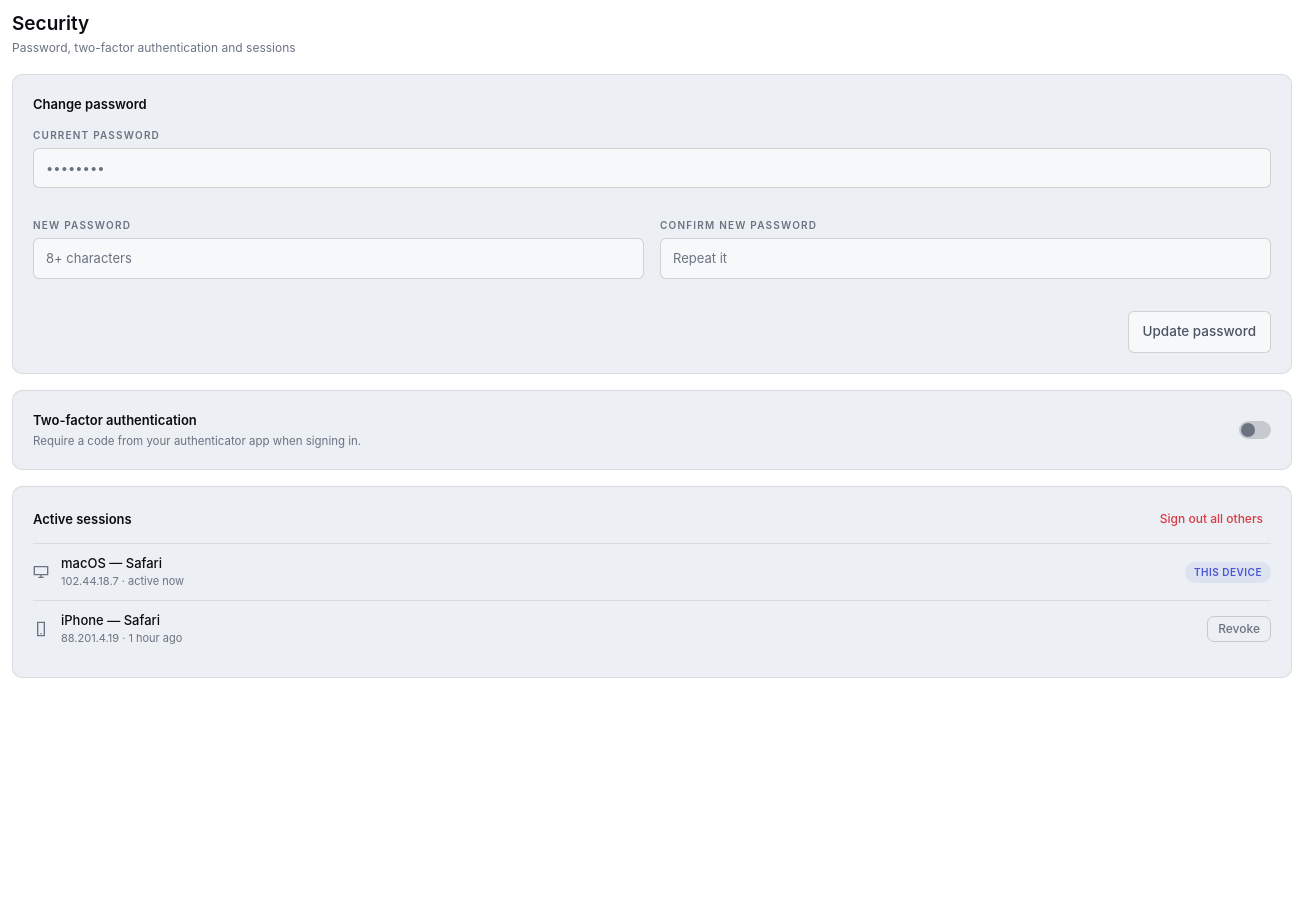
it: SettingsSecurityPage › signs out all others and says how many went
Click the button "Sign out all others". click: (1211, 519)
box: [1152,507,1271,531]
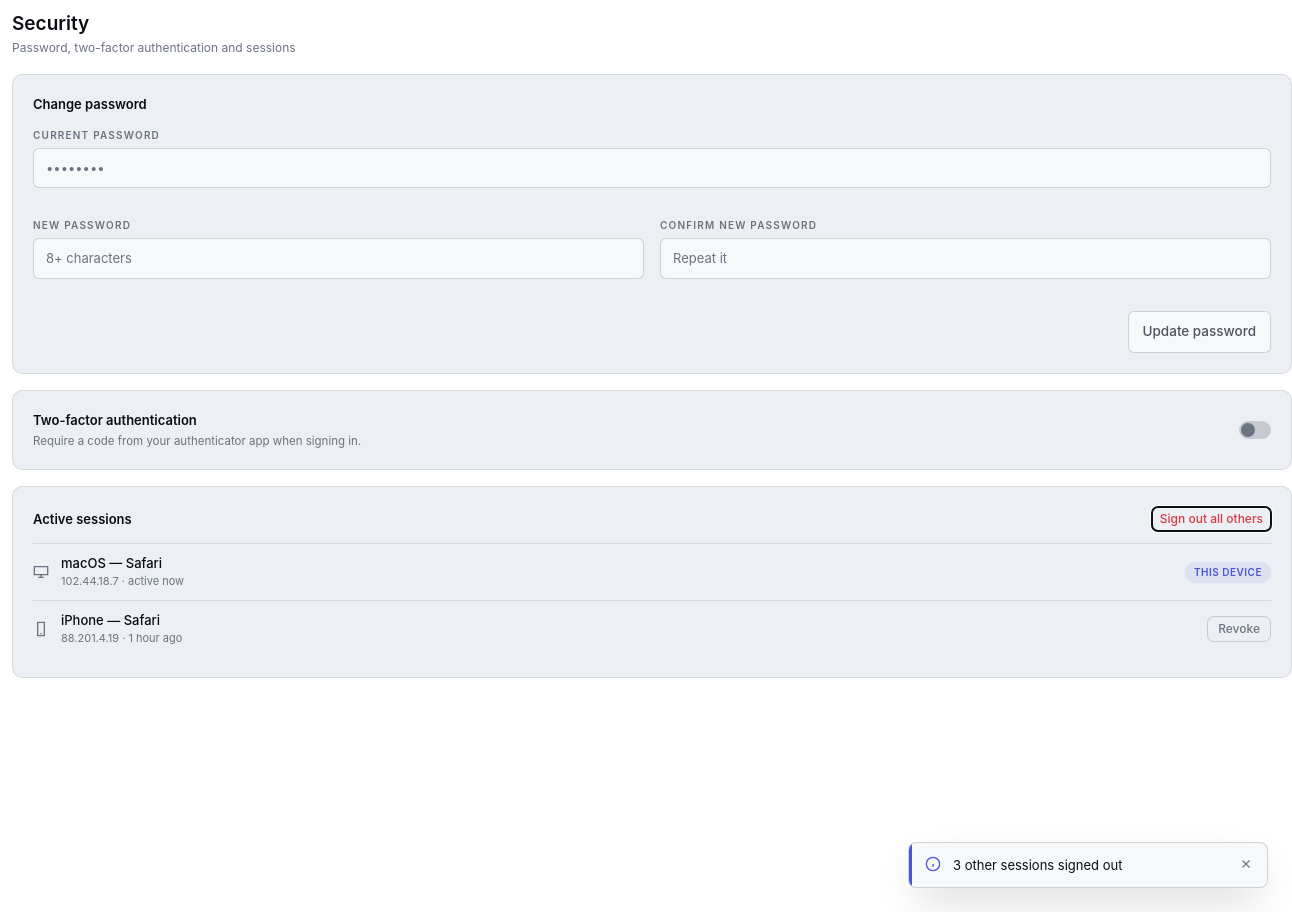
Expected: the text "3 other sessions signed out" is shown, [953,857,1122,873]
